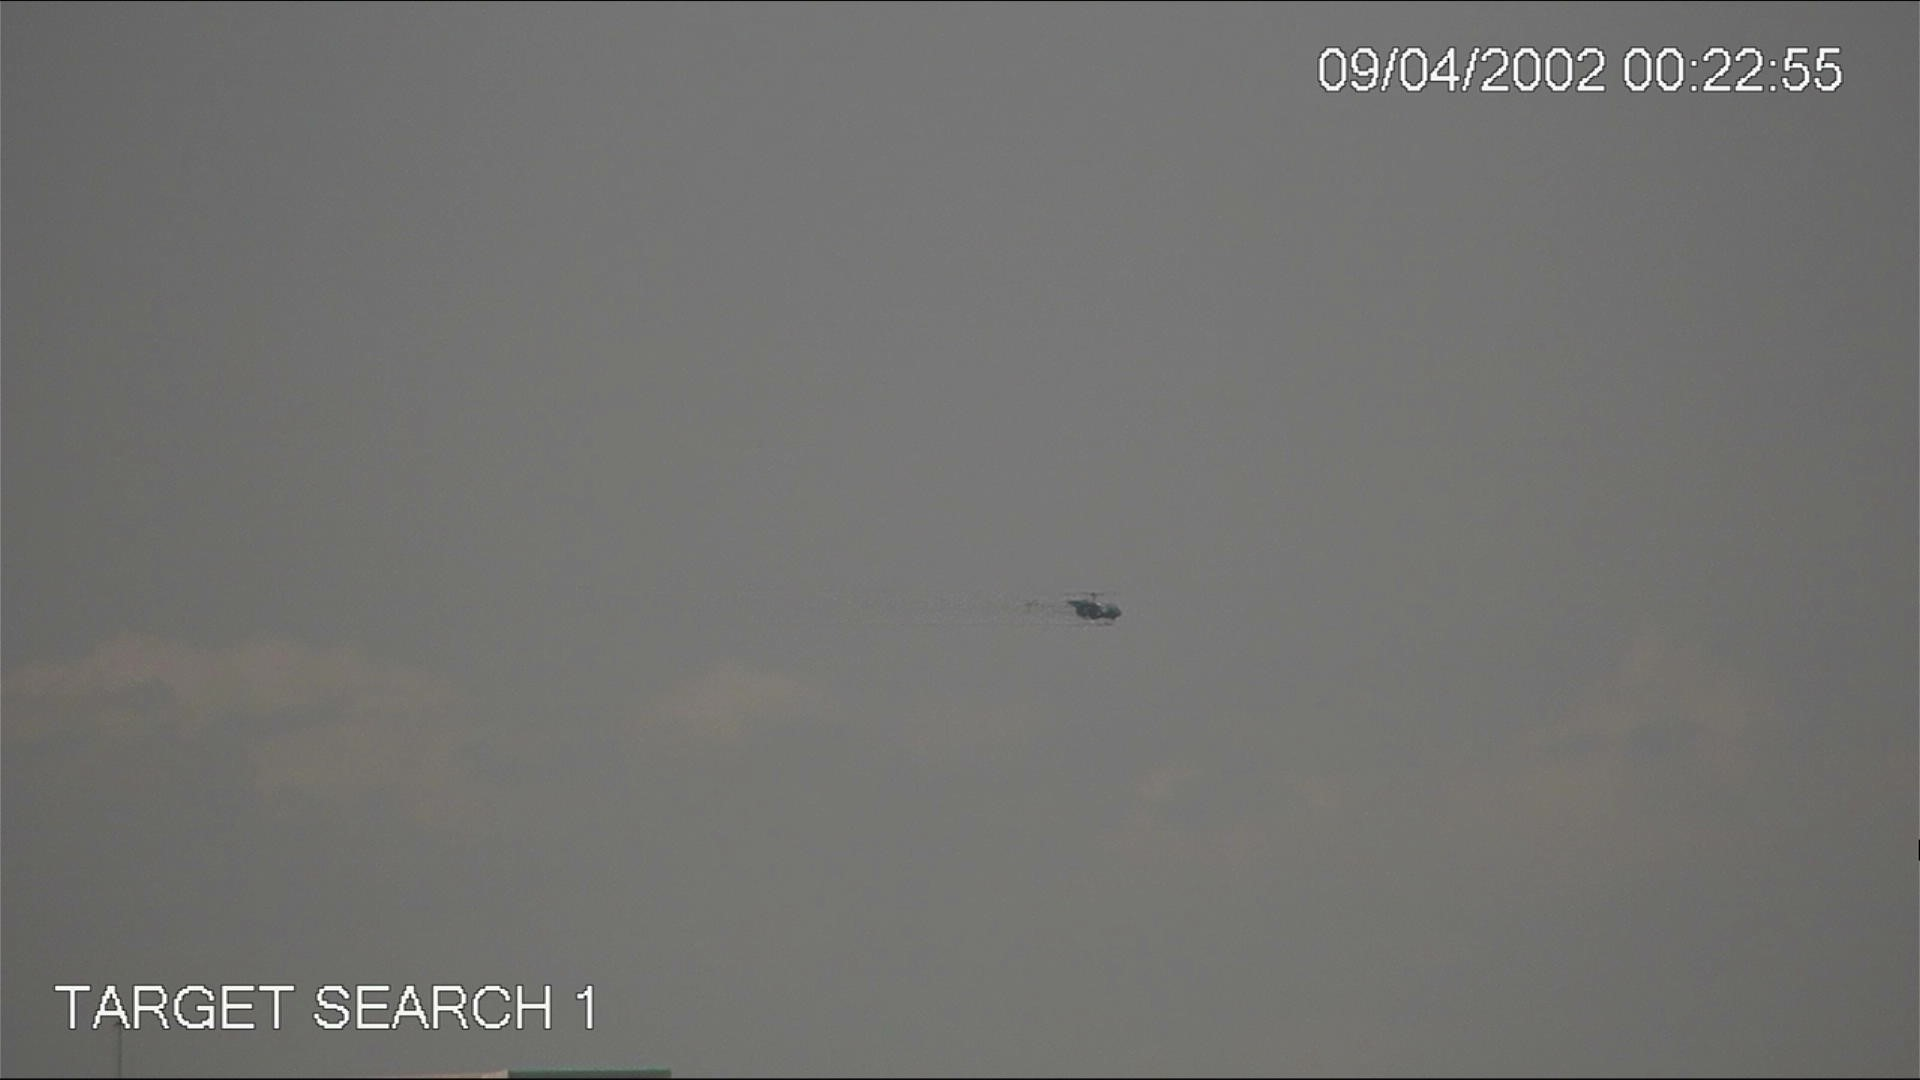SU_30: (1006, 582, 1126, 630)
